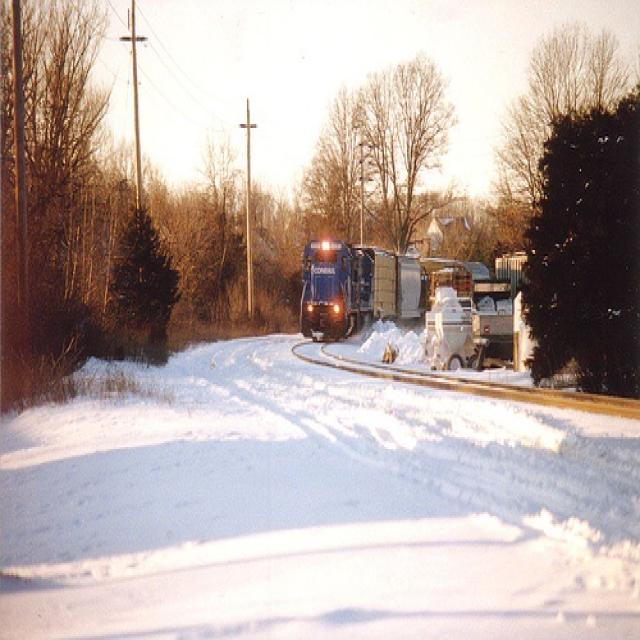train: (298, 240, 489, 343)
